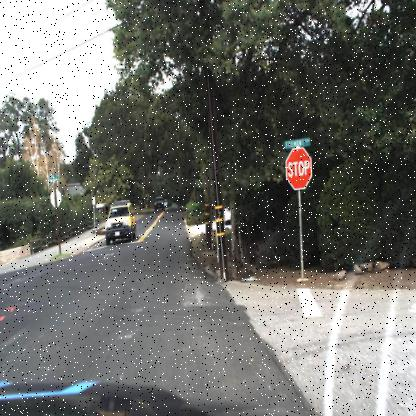car: (98, 199, 138, 248), (153, 195, 165, 210)
